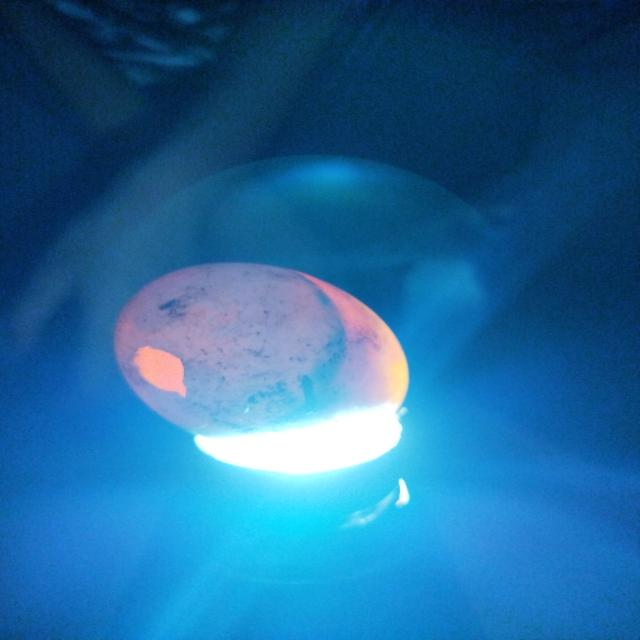Area Infectada: (179, 268, 348, 436)
